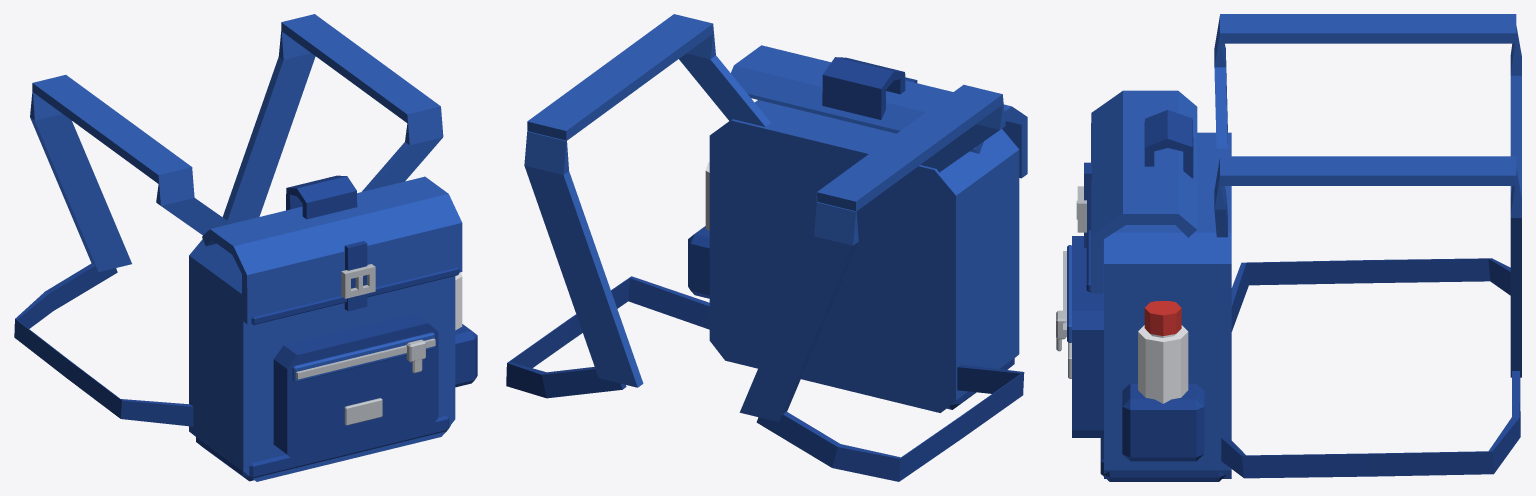
File: SchoolBackpack.fbx
The picture shows the model from 3 angles, left to right: view 1: azimuth 30°, elevation 25°; view 2: azimuth 150°, elevation 25°; view 3: azimuth 270°, elevation 25°; orthographic projection. The views are drawn at different scales.
Parts seen in each view (by area): view 1: Handle, Pocket, Hardware; view 2: Handle, Pocket; view 3: Handle, Pocket, Bottle, Hardware, BottleCap.
Boxes of the visible parts, <box> form: Handle: <box>30,14,462,481</box>; Pocket: <box>14,175,477,481</box>; Hardware: <box>296,264,435,425</box>; Handle: <box>524,14,1027,421</box>; Pocket: <box>506,57,1024,481</box>; Handle: <box>1067,14,1521,478</box>; Pocket: <box>1072,110,1520,481</box>; Bottle: <box>1138,325,1188,403</box>; Hardware: <box>1056,186,1086,378</box>; BottleCap: <box>1144,301,1181,335</box>.
Size of the model in its own units: 2.01 by 1.61 by 2.05.
